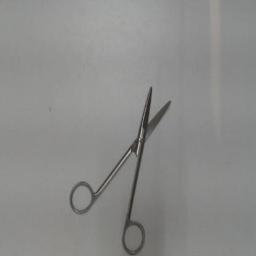Curved Mayo Scissors: (68, 78, 176, 256)
